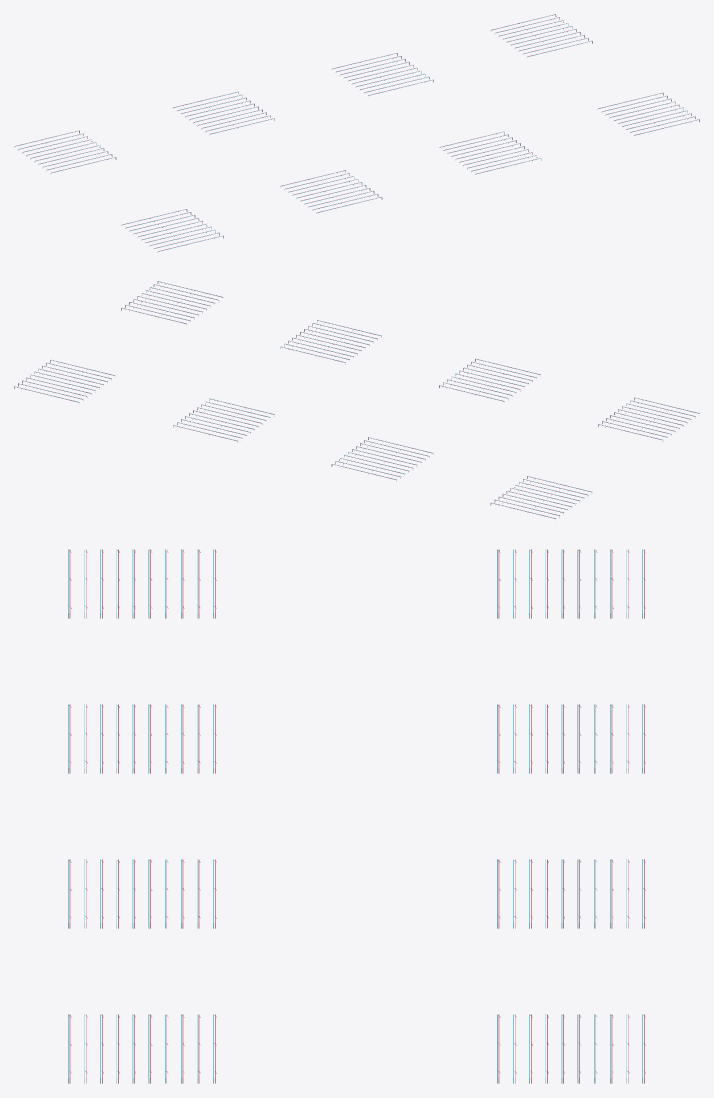
The model's file is tcs.glb.
3 views of the same model, one above another, from view 1: azimuth 30°, elevation 25°; view 2: azimuth 150°, elevation 25°; view 3: azimuth 270°, elevation 25° (orthographic). The views are drawn at different scales.
Parts seen in each view (by area): view 1: tcs_cyan, tcs_red; view 2: tcs_red, tcs_cyan; view 3: tcs_red, tcs_cyan.
Part boxes in pixels (x1,y1,x2,y2): tcs_cyan: (15, 14, 699, 251); tcs_red: (15, 14, 699, 251); tcs_red: (14, 281, 698, 518); tcs_cyan: (14, 281, 699, 518); tcs_red: (69, 549, 645, 1083); tcs_cyan: (68, 549, 645, 1083).
Bounding box in the file's own units: 341 × 1.68 × 158.
